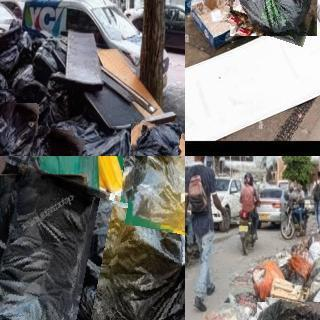Garbage: (0, 168, 98, 320), (95, 199, 185, 320), (73, 198, 122, 320), (120, 156, 185, 232), (225, 0, 320, 41), (0, 102, 38, 156), (16, 127, 80, 156), (129, 121, 180, 156), (0, 87, 16, 143)
